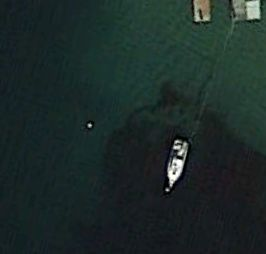boat: (166, 138, 189, 190)
